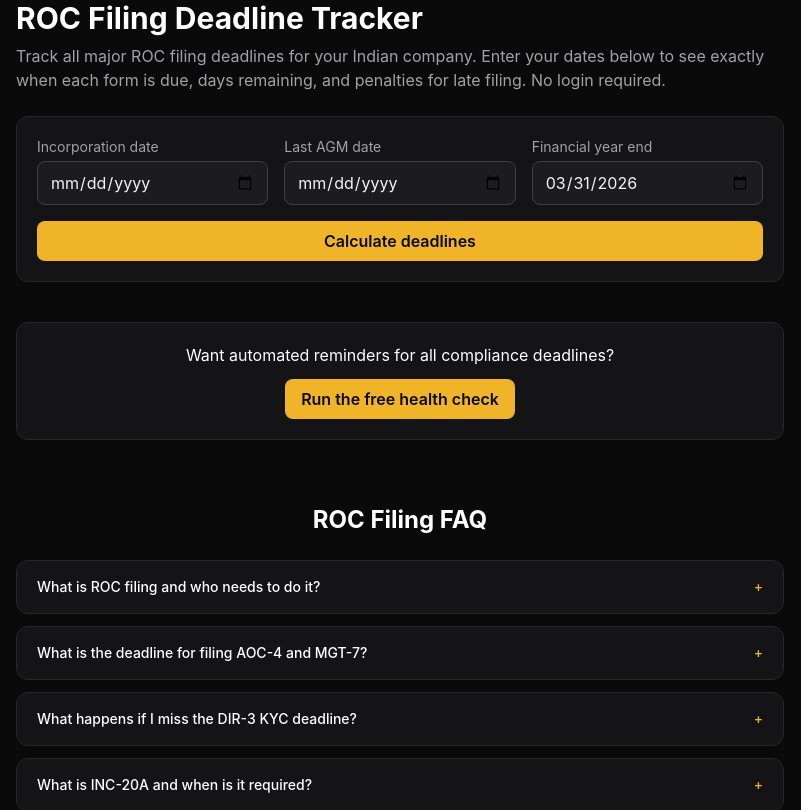
Scenario: RocFilingTracker › shows penalty info for each filing
The image size is (801, 810).
Type "2026-09-30" into the date field labelled "Last AGM date".
click(400, 183); type("2026-09-30")  # box top-left (284, 161), bottom-right (516, 205)
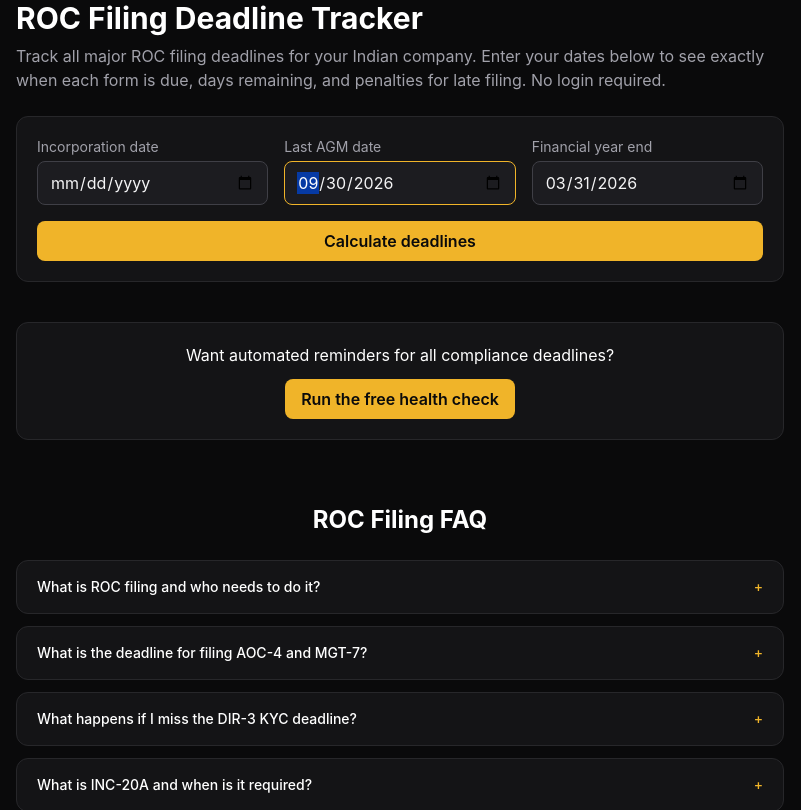
Click the button "Calculate deadlines".
click(400, 241)  # box top-left (37, 221), bottom-right (763, 261)
(page scrolled)
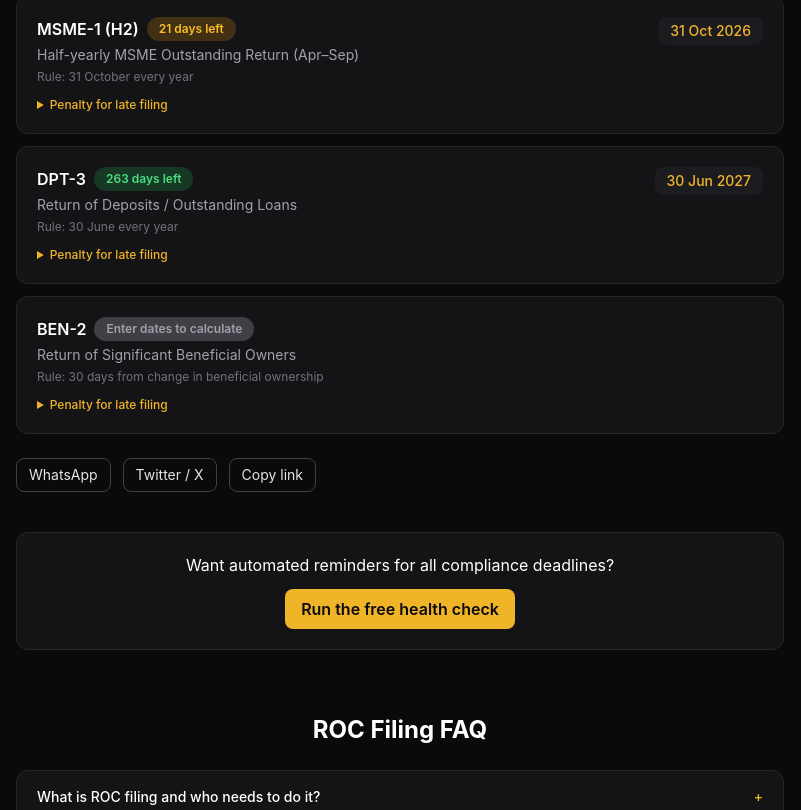
Result: the heading "Penalty for late filing" below "31 October every year" is shown at top-left (50, 97), bottom-right (168, 112)
Result: the heading "Penalty for late filing" below "30 June every year" is shown at top-left (50, 247), bottom-right (168, 262)
Result: the heading "Penalty for late filing" below "Return of Significant Beneficial Owners" is shown at top-left (50, 397), bottom-right (168, 412)
